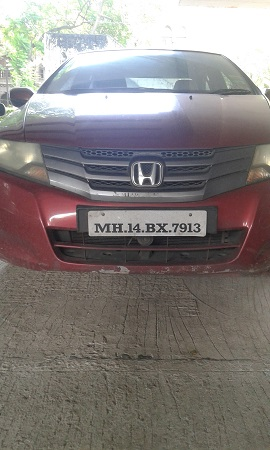licenseplate: (80, 209, 209, 240)
